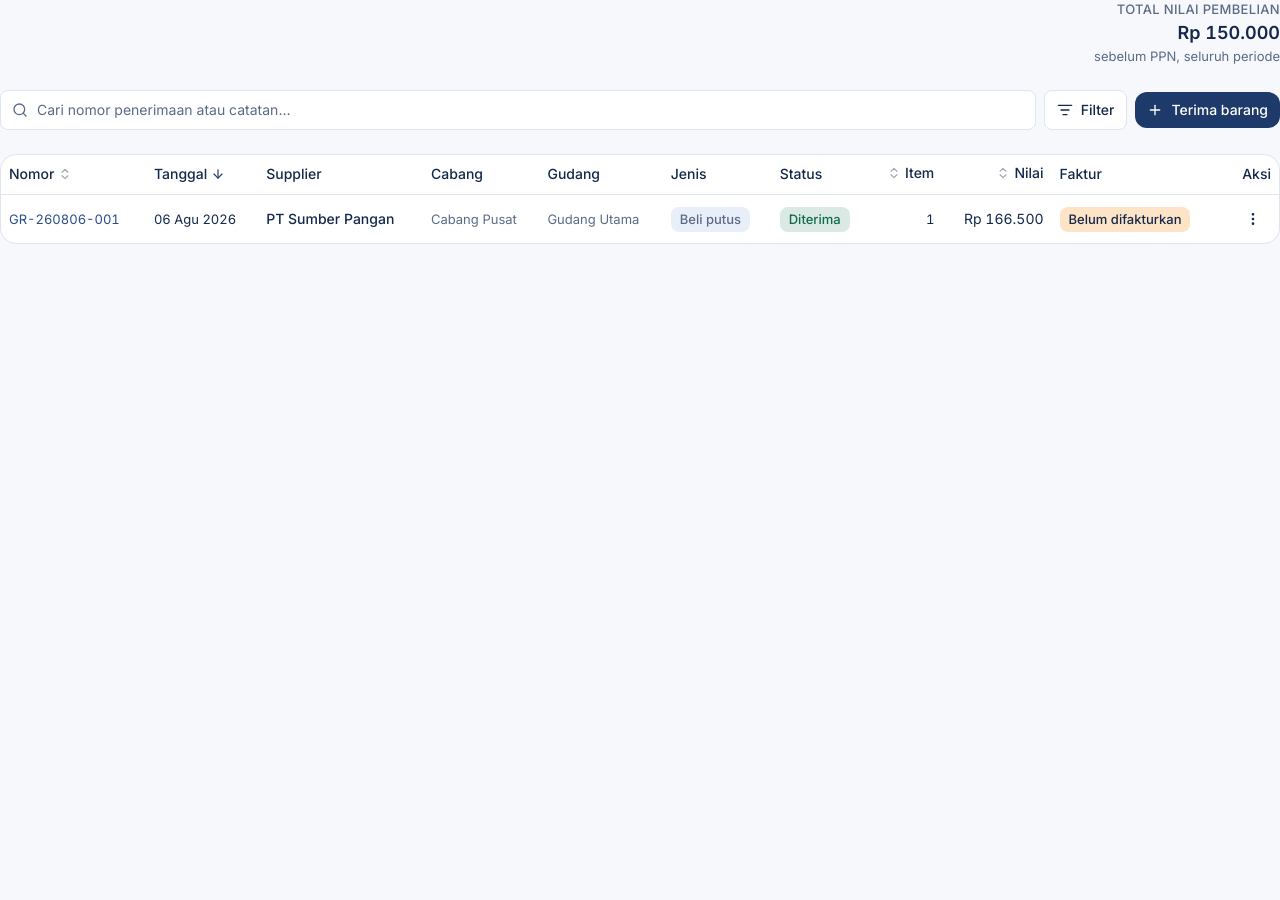
Test: ReceiptsScreen › the branch filter › counts the branch and the warehouse separately
Click the button "Filter" at x=1086, y=110, box [1044,90,1127,130]
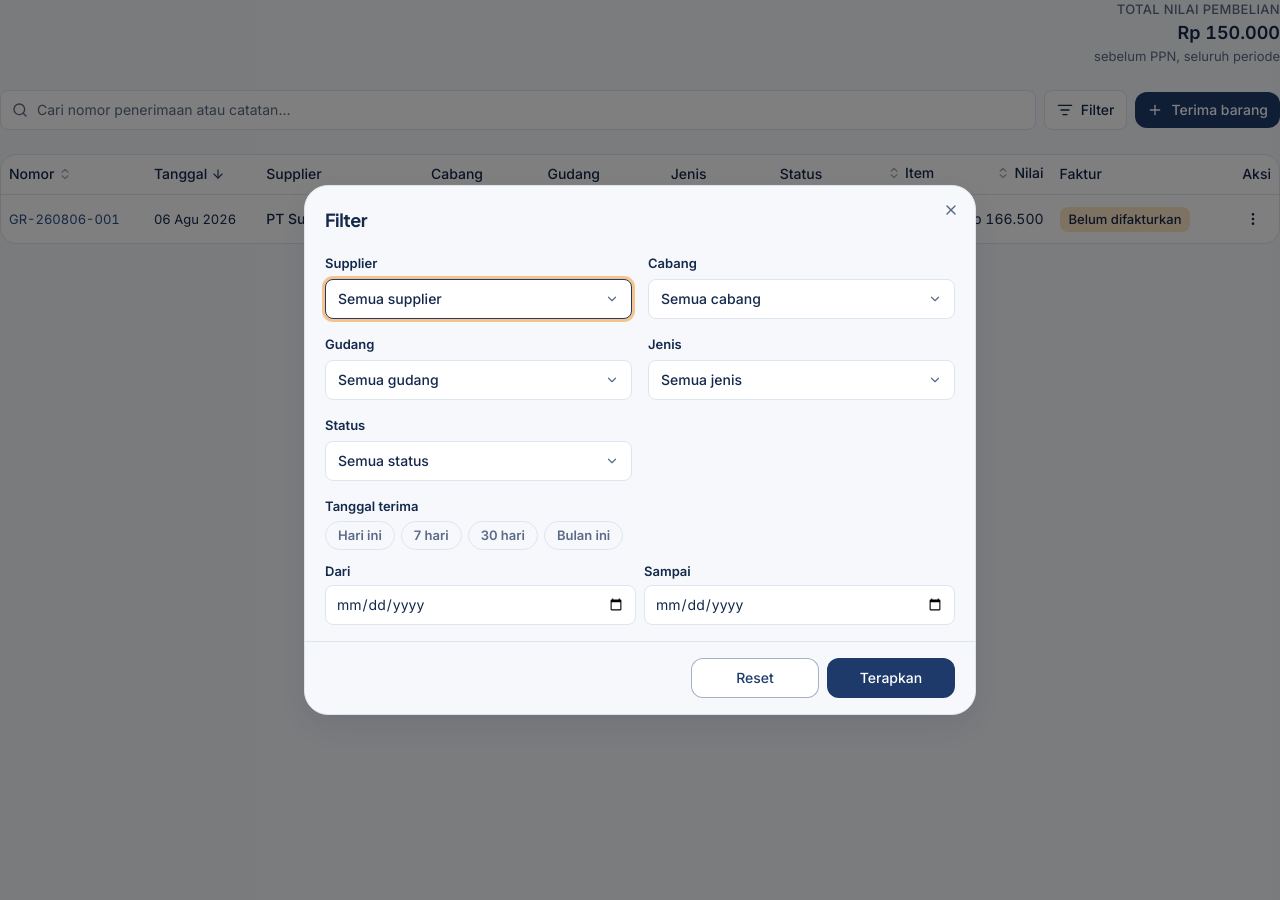
Click the button with aria-label "Filter gudang" at x=388, y=379, box [325,360,632,400]
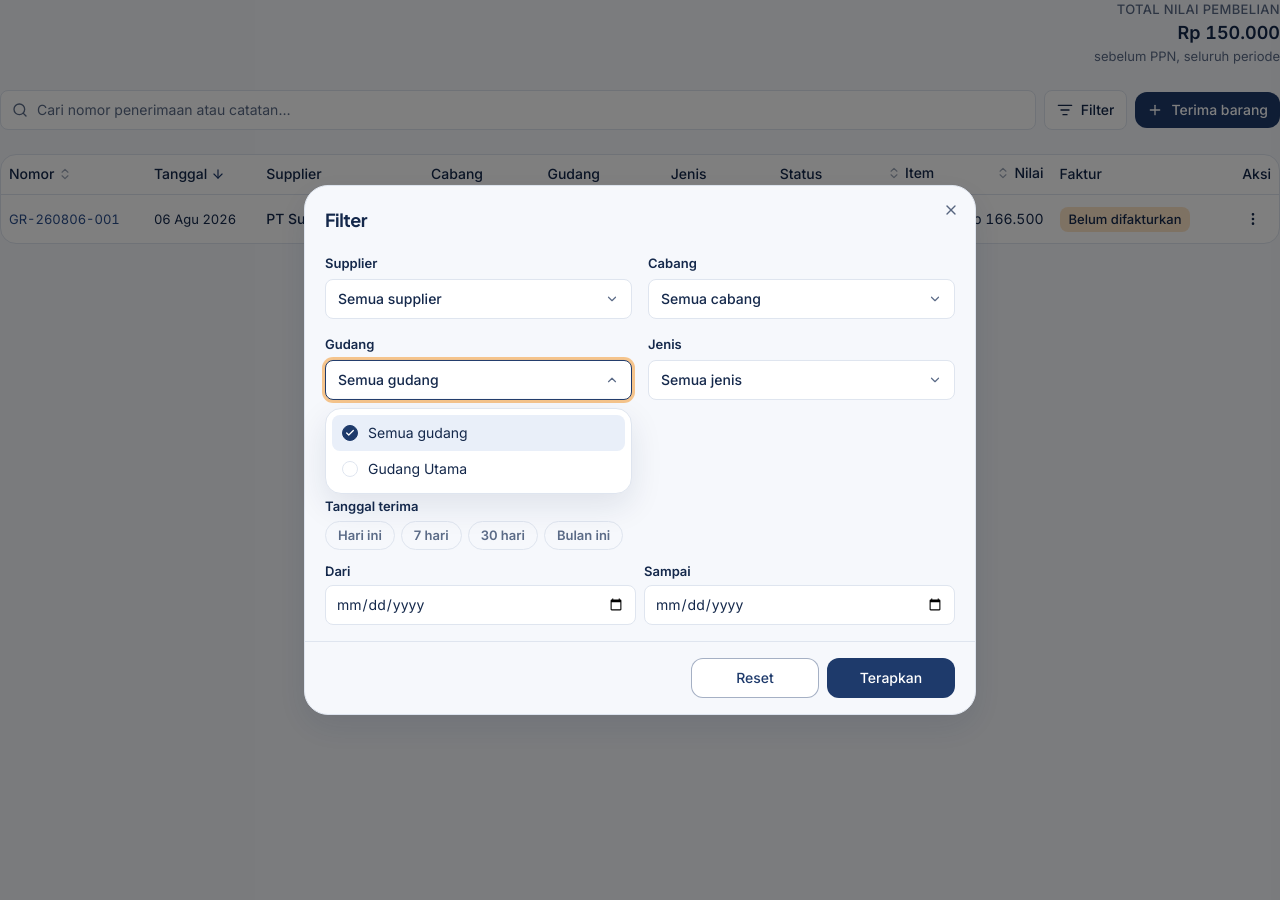
Click the option "Gudang Utama" at x=404, y=468, box [342,460,467,477]
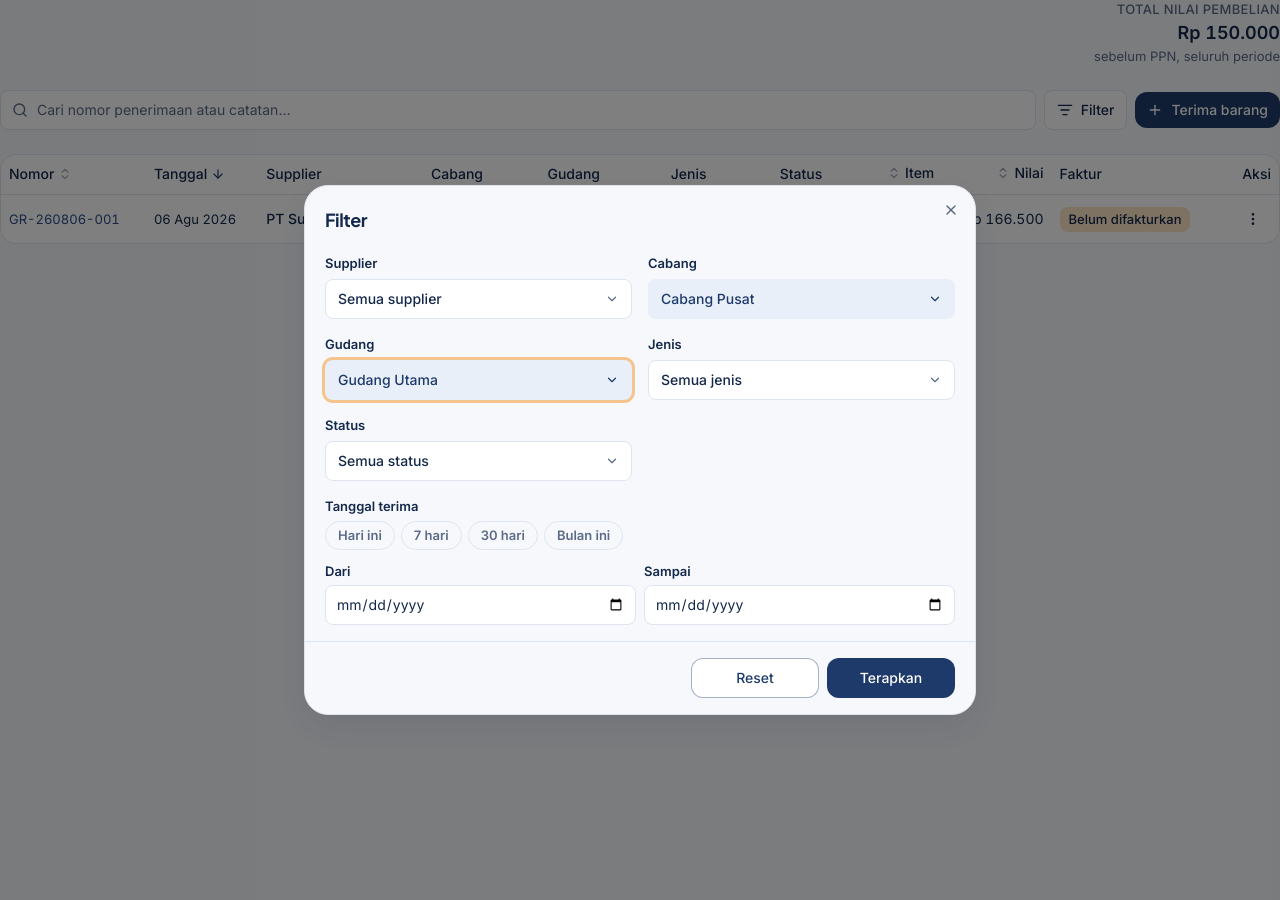
Click the button "Terapkan" at x=891, y=678, box [827,658,955,698]
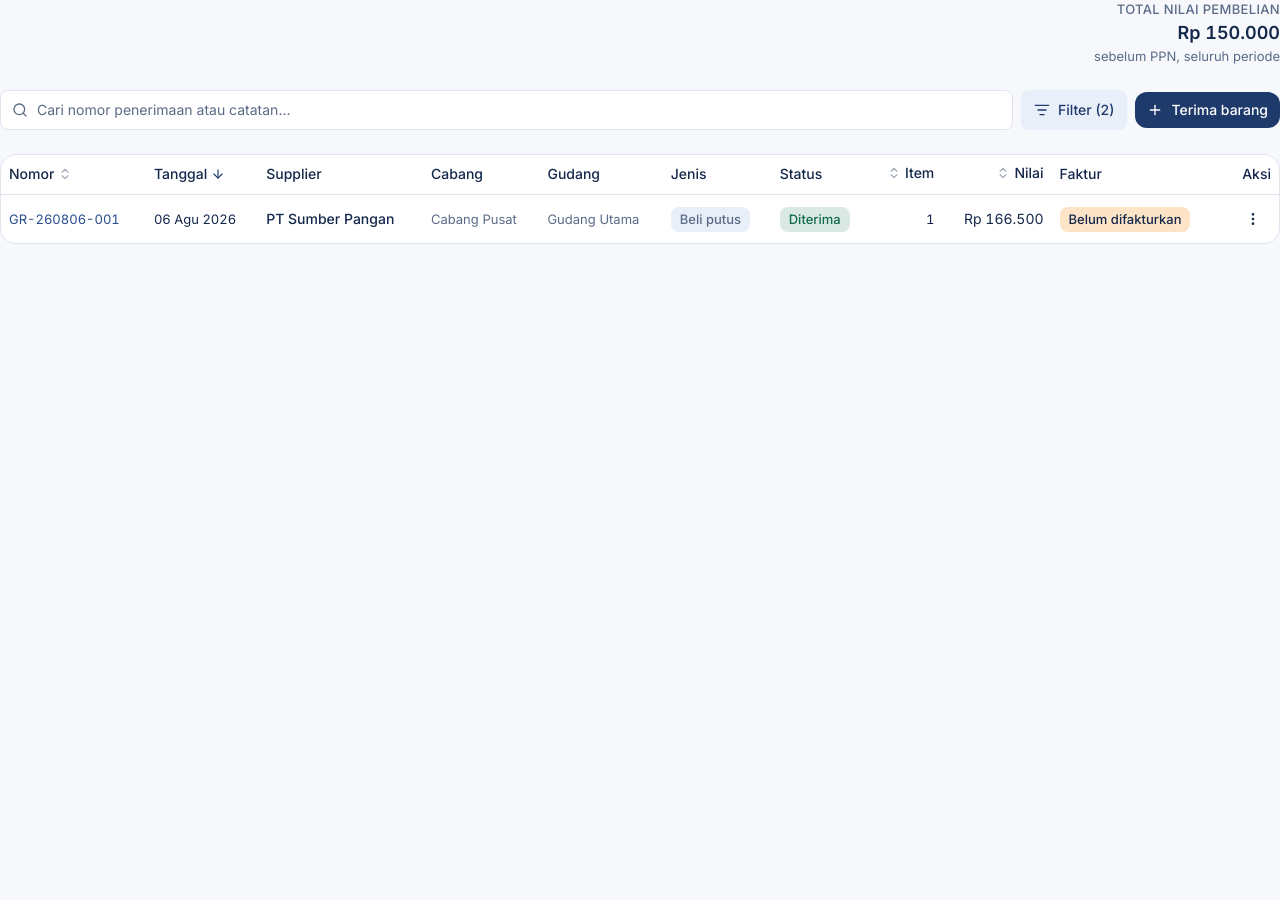
Now the button "Filter (2)" is shown, box [1021,90,1127,130]
